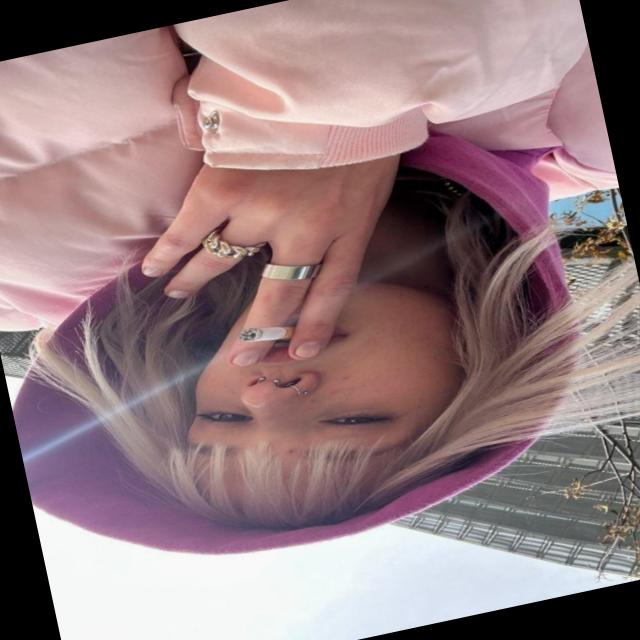smoke: (206, 302, 314, 371)
